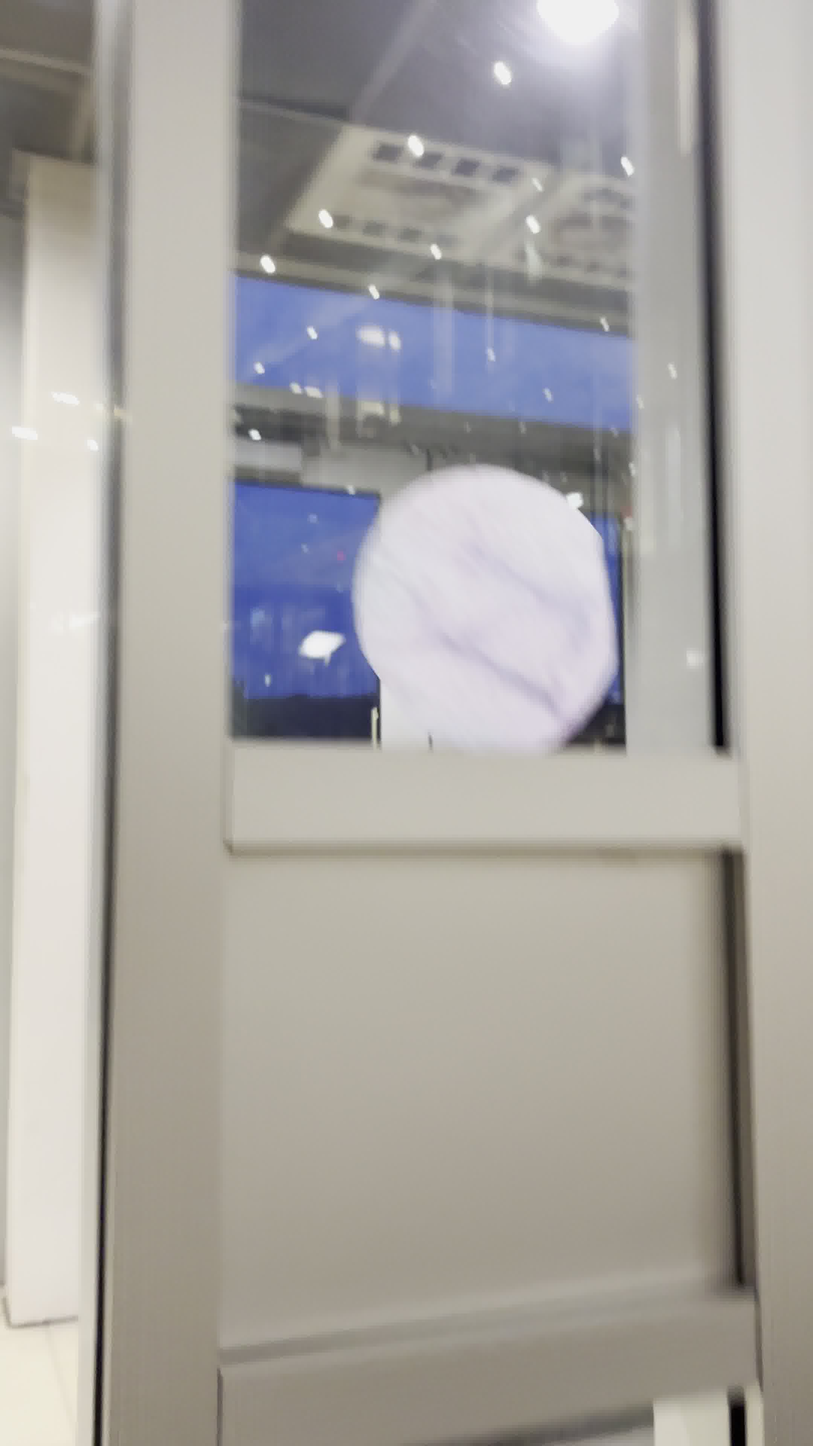Target: (344, 458, 627, 765)
